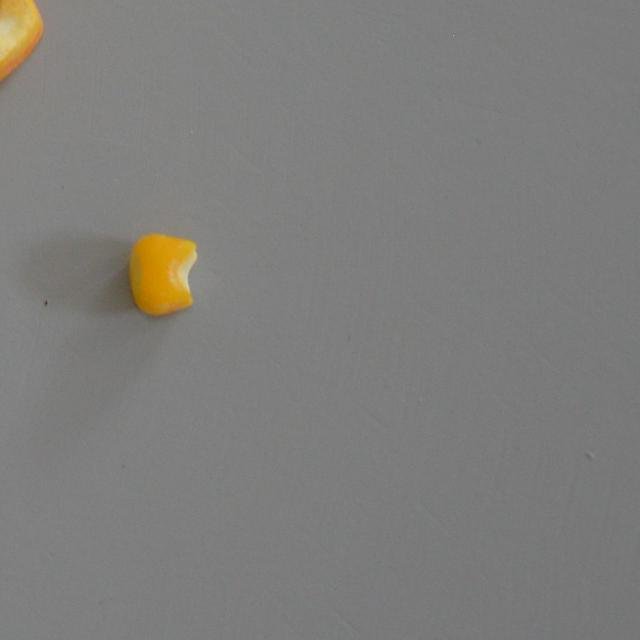no_canjicado: (126, 232, 198, 316), (0, 0, 44, 86)
